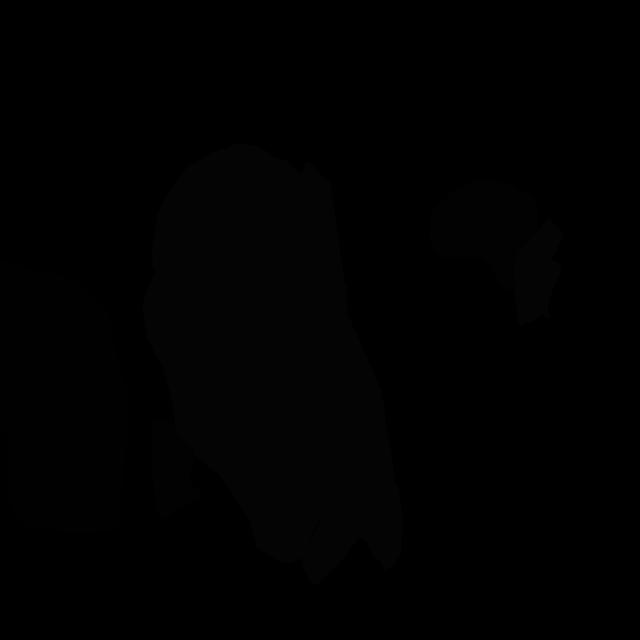cardboard: (429, 180, 538, 292), (151, 419, 204, 519)
rigid_plastic: (0, 259, 130, 534)
soft_plastic: (142, 144, 348, 564), (301, 314, 403, 586), (514, 217, 564, 326)
